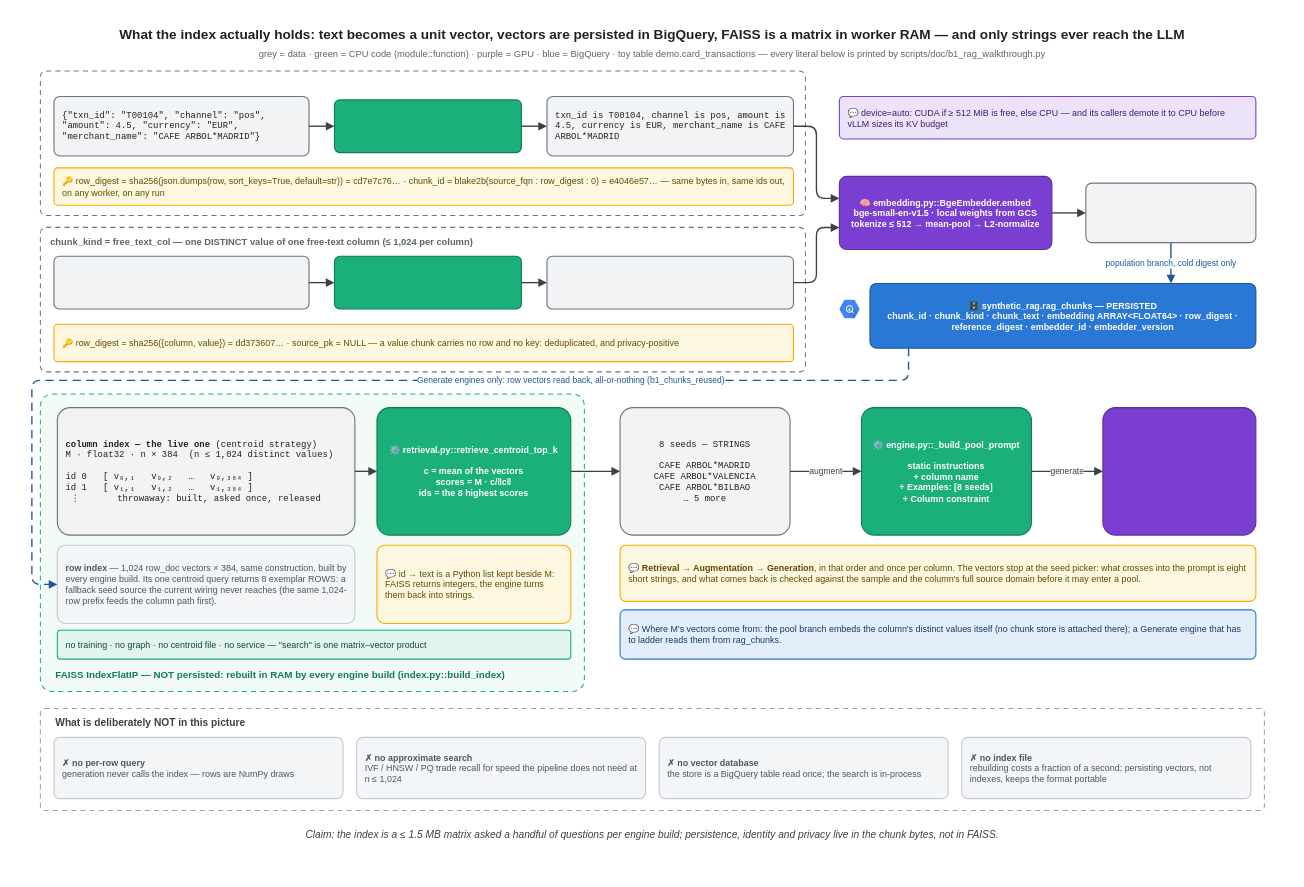
This 1304x887 diagram has some shape labels left out. The shapes that lost their labels are listed below. From the top down, each one's box as (x1, y1, x2, y2) in pixels, then its label:
(39, 70, 805, 216): chunk_kind = row_doc — a whole reference row (first 1,024 rows of the sample)
(334, 99, 522, 153): ⚙️ serialize.py::serialize_row GReaT sentence, schema column order
(1085, 182, 1256, 243): v = [ v₁, v₂, … , v₃₈₄ ] ‖v‖ = 1 (a unit vector)
(53, 255, 309, 309): merchant_name 96 rows → 81 distinct values
(334, 255, 522, 309): ⚙️ chunking.py::chunk_free_text_value the value IS the chunk text
(546, 255, 794, 309): CAFE ARBOL*MADRID
(1102, 407, 1256, 535): 🧠 vLLM guided JSON {"values": [32 strings]} × n=4 then the gates
